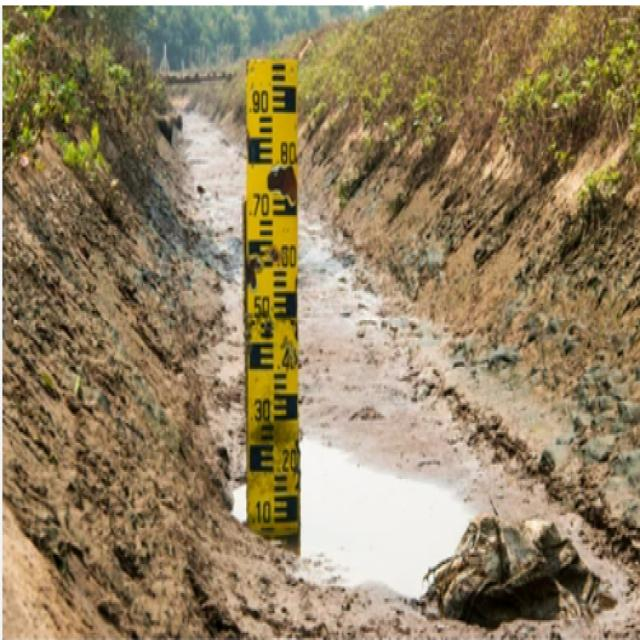ruler: (238, 47, 310, 555)
value: (274, 442, 301, 477), (274, 339, 300, 375), (246, 189, 274, 222), (248, 393, 274, 427), (274, 136, 300, 170), (247, 85, 272, 119), (249, 290, 275, 322), (249, 496, 274, 529), (273, 240, 298, 272)
